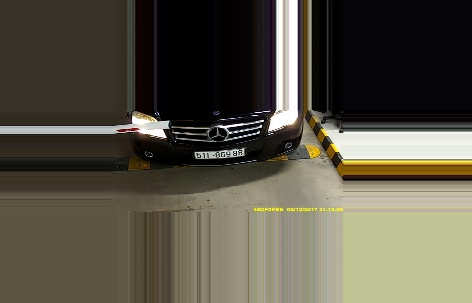plate: (191, 147, 246, 162)
